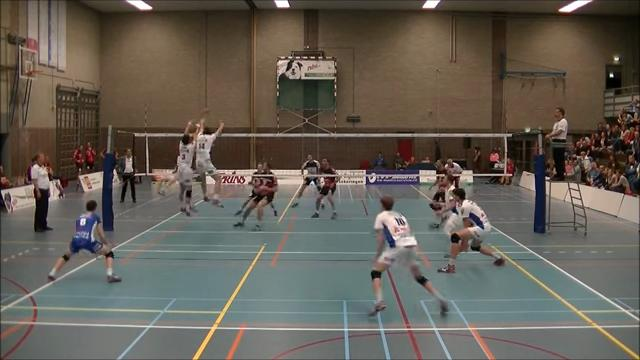Block: (196, 116, 226, 208), (170, 114, 196, 217)
Player: (370, 196, 447, 315), (47, 200, 121, 282), (438, 188, 504, 272), (234, 162, 277, 230), (312, 159, 339, 218), (292, 154, 320, 206), (235, 164, 262, 215), (430, 174, 455, 228), (158, 156, 179, 195), (445, 159, 462, 187)
ball: (200, 106, 210, 115)
